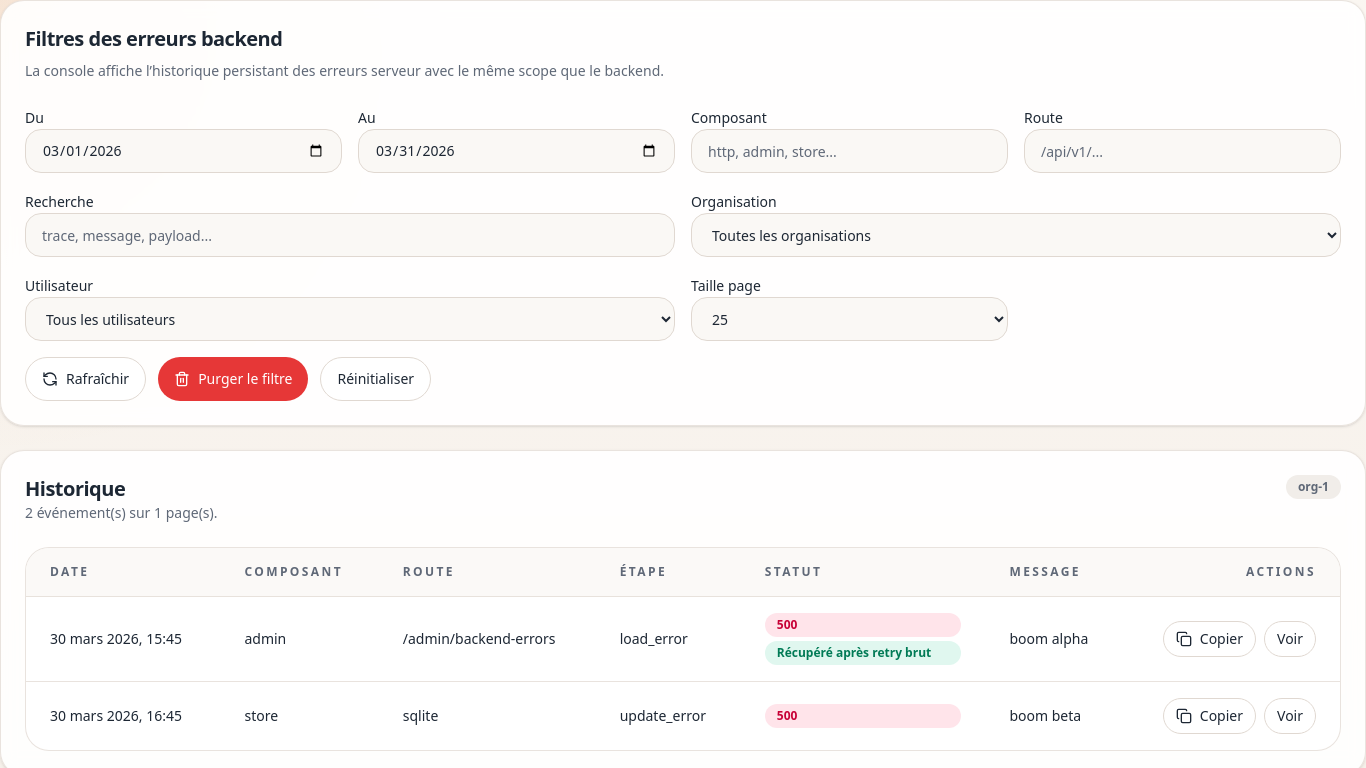
Test: BackendErrorsPage › copies a backend error row as JSON
Expected: the text "2 événement(s) sur 1 page(s)." is shown, [25,503,218,523]
What coordinates should you click on to do the following:
click the 1st button "Copier"
I would click on:
 (1209, 639)
Its box is [1163,621,1256,657].
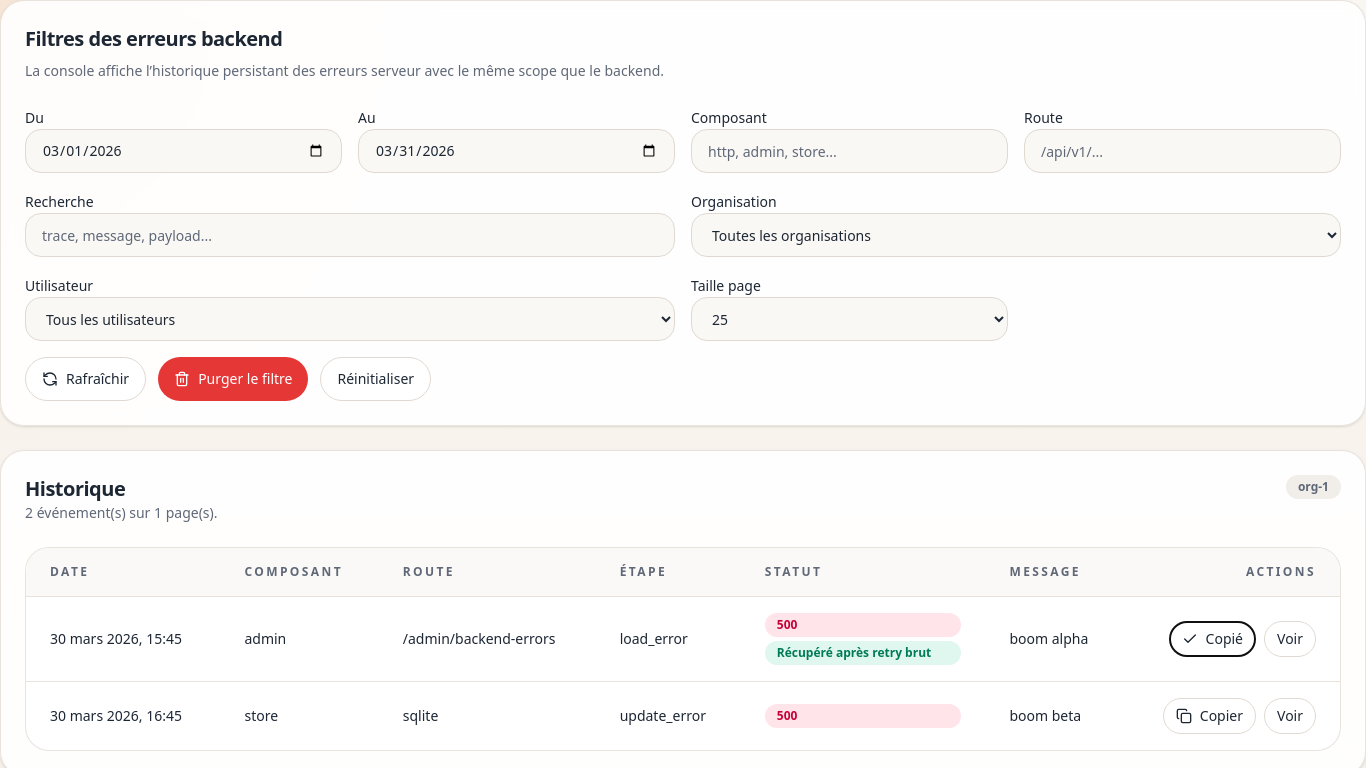
Expected: the button "Copié" is shown, [1169,621,1256,657]
